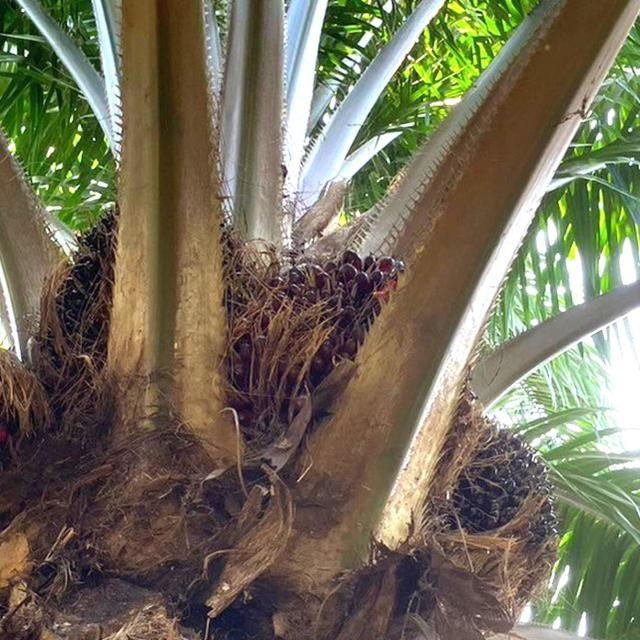ripe: (225, 239, 408, 408)
